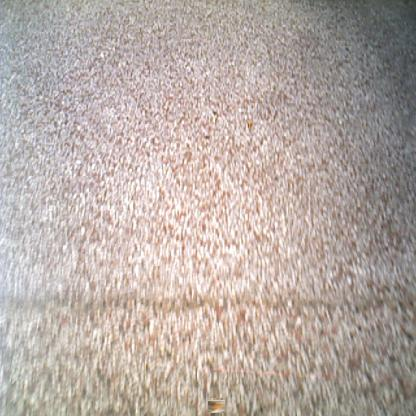dirty: (209, 399, 224, 415)
